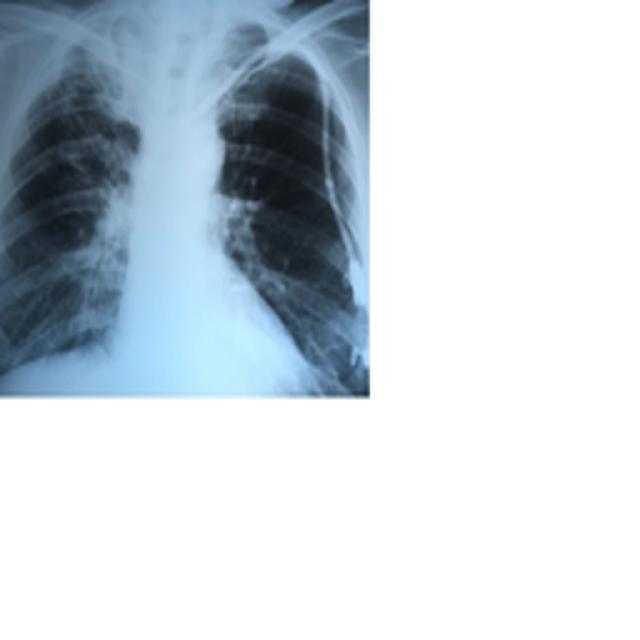tuberculosis: (0, 0, 376, 404)
